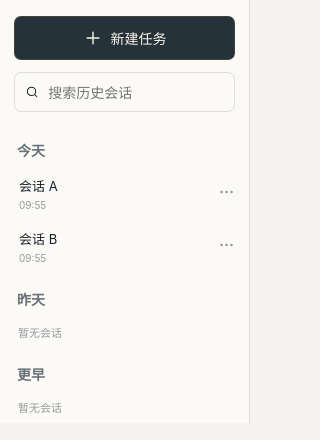
Test case: Sidebar session context menu › closes before invoking Delete exactly once for the active session
Click the 2nd button named "会话操作" at [226, 246], box [214, 231, 239, 262]
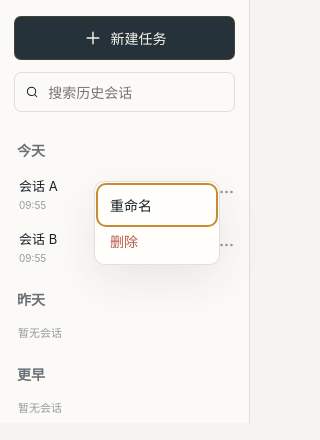
Click the menu item "删除" at [157, 241], box [100, 223, 214, 259]
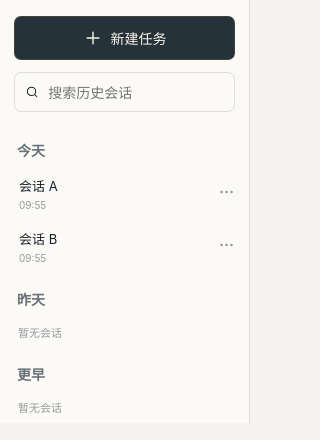
Expected: the menu is gone
